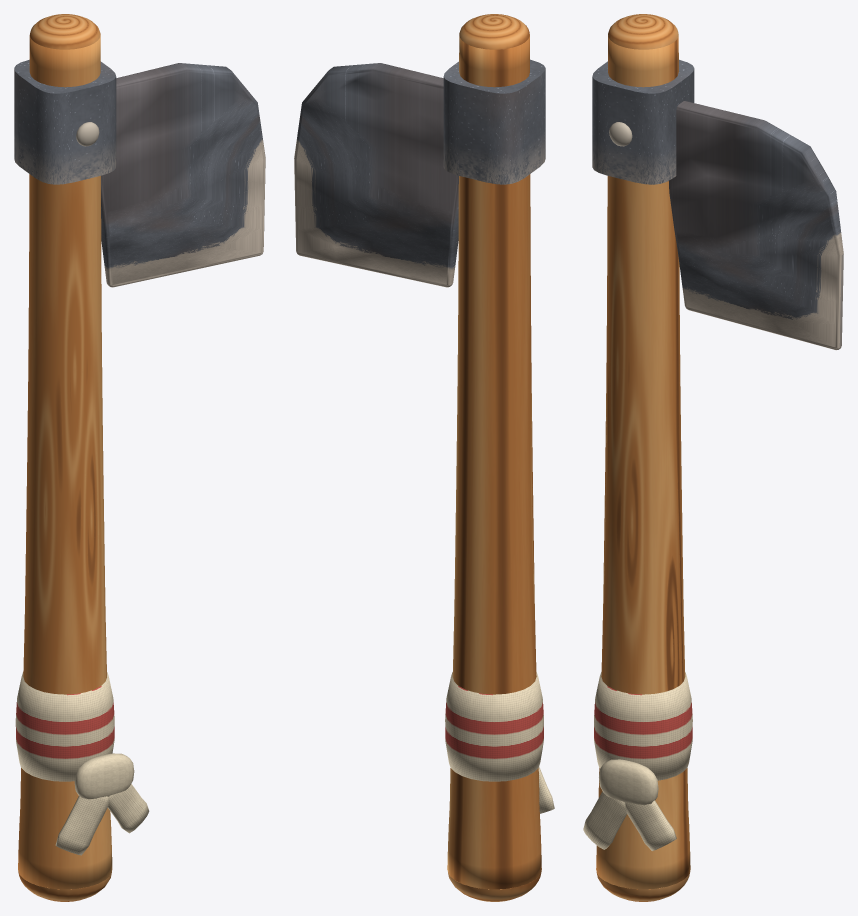
File: hoe.glb
The picture shows the model from 3 angles, left to right: view 1: azimuth 30°, elevation 25°; view 2: azimuth 150°, elevation 25°; view 3: azimuth 330°, elevation 25°; orthographic projection.
Visible parts, largest first — view 1: model; view 2: model; view 3: model.
Boxes of the visible parts, x1=… form: model: x1=14, y1=14, x2=265, y2=901; model: x1=294, y1=14, x2=554, y2=901; model: x1=583, y1=14, x2=843, y2=901.
Size of the model in its own units: 0.2369 by 0.8175 by 0.0966.
7 materials, 6 textured.
